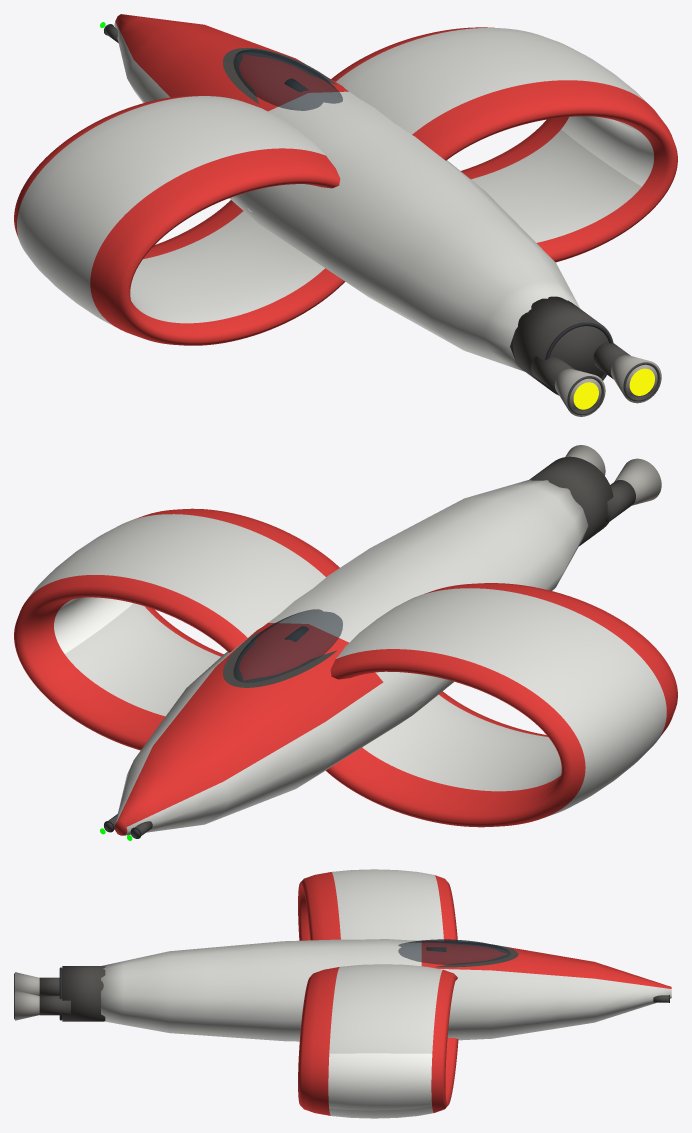
The model's file is Ship_TwoHoop_940914.glb.
The picture shows the model from 3 angles, top to bottom: view 1: azimuth 30°, elevation 25°; view 2: azimuth 150°, elevation 25°; view 3: azimuth 270°, elevation 25°; orthographic projection. The views are drawn at different scales.
Parts seen in each view (by area): view 1: Hoop_Left_StructuralRing_YAxisHole_CenterTangent_AftSwept, Fuselage_MainCenteredHull_CenterOfMassAtOrigin, Hoop_Right_StructuralRing_YAxisHole_CenterTangent_AftSwept, EngineBlock_AftHullIntegratedMountPlate, CanopyGlass_LowForwardPodDome, CanopyFrame_LowInsetOvalRim, EngineBell_Left_AftHullBurnishedNozzle, EngineBell_Right_AftHullBurnishedNozzle, EngineEmitter, EngineThroat_Left_AftHullDarkSocket, EngineThroat_Right_AftHullDarkSocket; view 2: Hoop_Left_StructuralRing_YAxisHole_CenterTangent_AftSwept, Fuselage_MainCenteredHull_CenterOfMassAtOrigin, Hoop_Right_StructuralRing_YAxisHole_CenterTangent_AftSwept, CanopyGlass_LowForwardPodDome, EngineBlock_AftHullIntegratedMountPlate, CanopyFrame_LowInsetOvalRim, EngineBell_Left_AftHullBurnishedNozzle, EngineThroat_Left_AftHullDarkSocket; view 3: Fuselage_MainCenteredHull_CenterOfMassAtOrigin, Hoop_Right_StructuralRing_YAxisHole_CenterTangent_AftSwept, Hoop_Left_StructuralRing_YAxisHole_CenterTangent_AftSwept, CanopyGlass_LowForwardPodDome, EngineBlock_AftHullIntegratedMountPlate, CanopyFrame_LowInsetOvalRim, EngineBell_Right_AftHullBurnishedNozzle, EngineThroat_Right_AftHullDarkSocket, EngineBell_Left_AftHullBurnishedNozzle, EngineThroat_Left_AftHullDarkSocket.
Part boxes in pixels (x1,y1,x2,y2): Hoop_Left_StructuralRing_YAxisHole_CenterTangent_AftSwept: (14,95,345,345); Fuselage_MainCenteredHull_CenterOfMassAtOrigin: (114,14,580,371); Hoop_Right_StructuralRing_YAxisHole_CenterTangent_AftSwept: (331,27,677,262); EngineBlock_AftHullIntegratedMountPlate: (513,296,613,395); CanopyGlass_LowForwardPodDome: (233,49,342,110); CanopyFrame_LowInsetOvalRim: (223,48,337,104); EngineBell_Left_AftHullBurnishedNozzle: (554,368,605,416); EngineBell_Right_AftHullBurnishedNozzle: (611,355,661,403); EngineEmitter: (573,368,654,409); EngineThroat_Left_AftHullDarkSocket: (531,356,574,392); EngineThroat_Right_AftHullDarkSocket: (593,342,630,379); Hoop_Left_StructuralRing_YAxisHole_CenterTangent_AftSwept: (326,583,677,827); Fuselage_MainCenteredHull_CenterOfMassAtOrigin: (114,479,588,835); Hoop_Right_StructuralRing_YAxisHole_CenterTangent_AftSwept: (14,508,339,750); CanopyGlass_LowForwardPodDome: (233,609,342,682); EngineBlock_AftHullIntegratedMountPlate: (529,456,613,546); CanopyFrame_LowInsetOvalRim: (223,631,337,687); EngineBell_Left_AftHullBurnishedNozzle: (614,458,661,505); EngineThroat_Left_AftHullDarkSocket: (604,480,635,524); Fuselage_MainCenteredHull_CenterOfMassAtOrigin: (101,939,671,1041); Hoop_Right_StructuralRing_YAxisHole_CenterTangent_AftSwept: (298,964,458,1118); Hoop_Left_StructuralRing_YAxisHole_CenterTangent_AftSwept: (298,869,457,940); CanopyGlass_LowForwardPodDome: (398,939,510,964); EngineBlock_AftHullIntegratedMountPlate: (62,966,105,1021); CanopyFrame_LowInsetOvalRim: (436,942,518,967); EngineBell_Right_AftHullBurnishedNozzle: (15,990,39,1020); EngineThroat_Right_AftHullDarkSocket: (39,995,70,1015); EngineBell_Left_AftHullBurnishedNozzle: (15,972,39,995); EngineThroat_Left_AftHullDarkSocket: (39,977,59,995).
Bounding box in the file's own units: 4.35 × 1.3 × 6.44.
